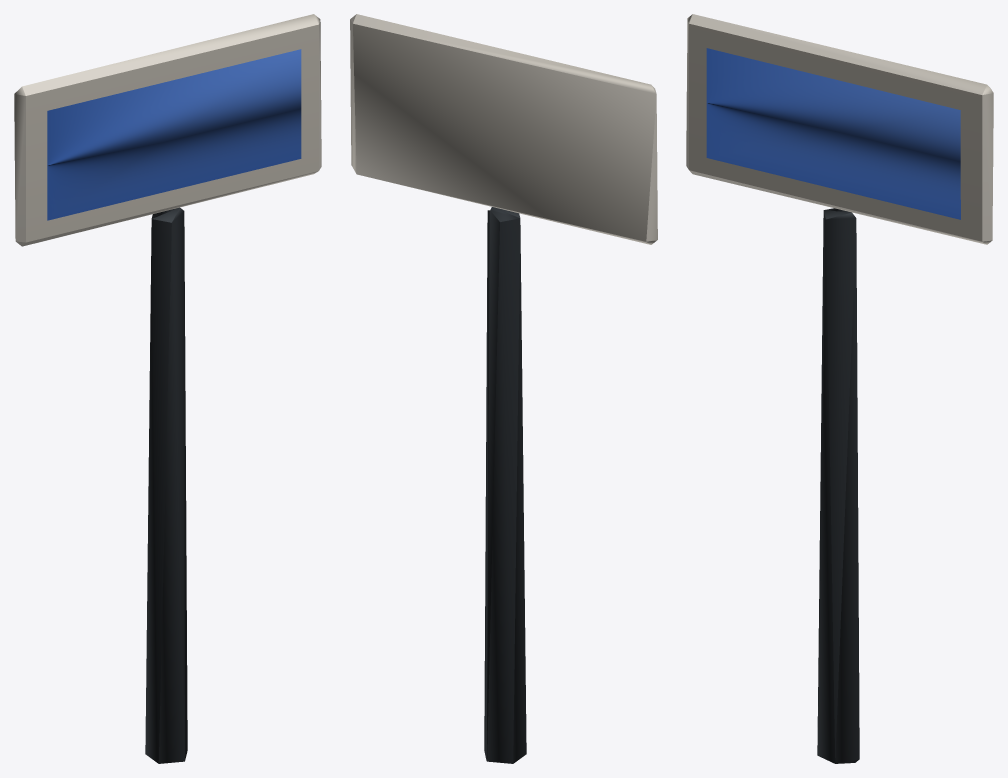
The model's file is road-sign-v1.lod2.glb.
3 renders of one model, left to right at view 1: azimuth 30°, elevation 25°; view 2: azimuth 150°, elevation 25°; view 3: azimuth 330°, elevation 25°, orthographic.
Parts seen in each view (by area): view 1: road-sign-v1.lod2; view 2: road-sign-v1.lod2; view 3: road-sign-v1.lod2.
Part boxes in pixels (bbox=[...]): road-sign-v1.lod2: bbox=[14, 14, 321, 763]; road-sign-v1.lod2: bbox=[350, 14, 657, 763]; road-sign-v1.lod2: bbox=[686, 14, 993, 763].
Size of the model in its own units: 1.4 by 3.1 by 0.1712.
